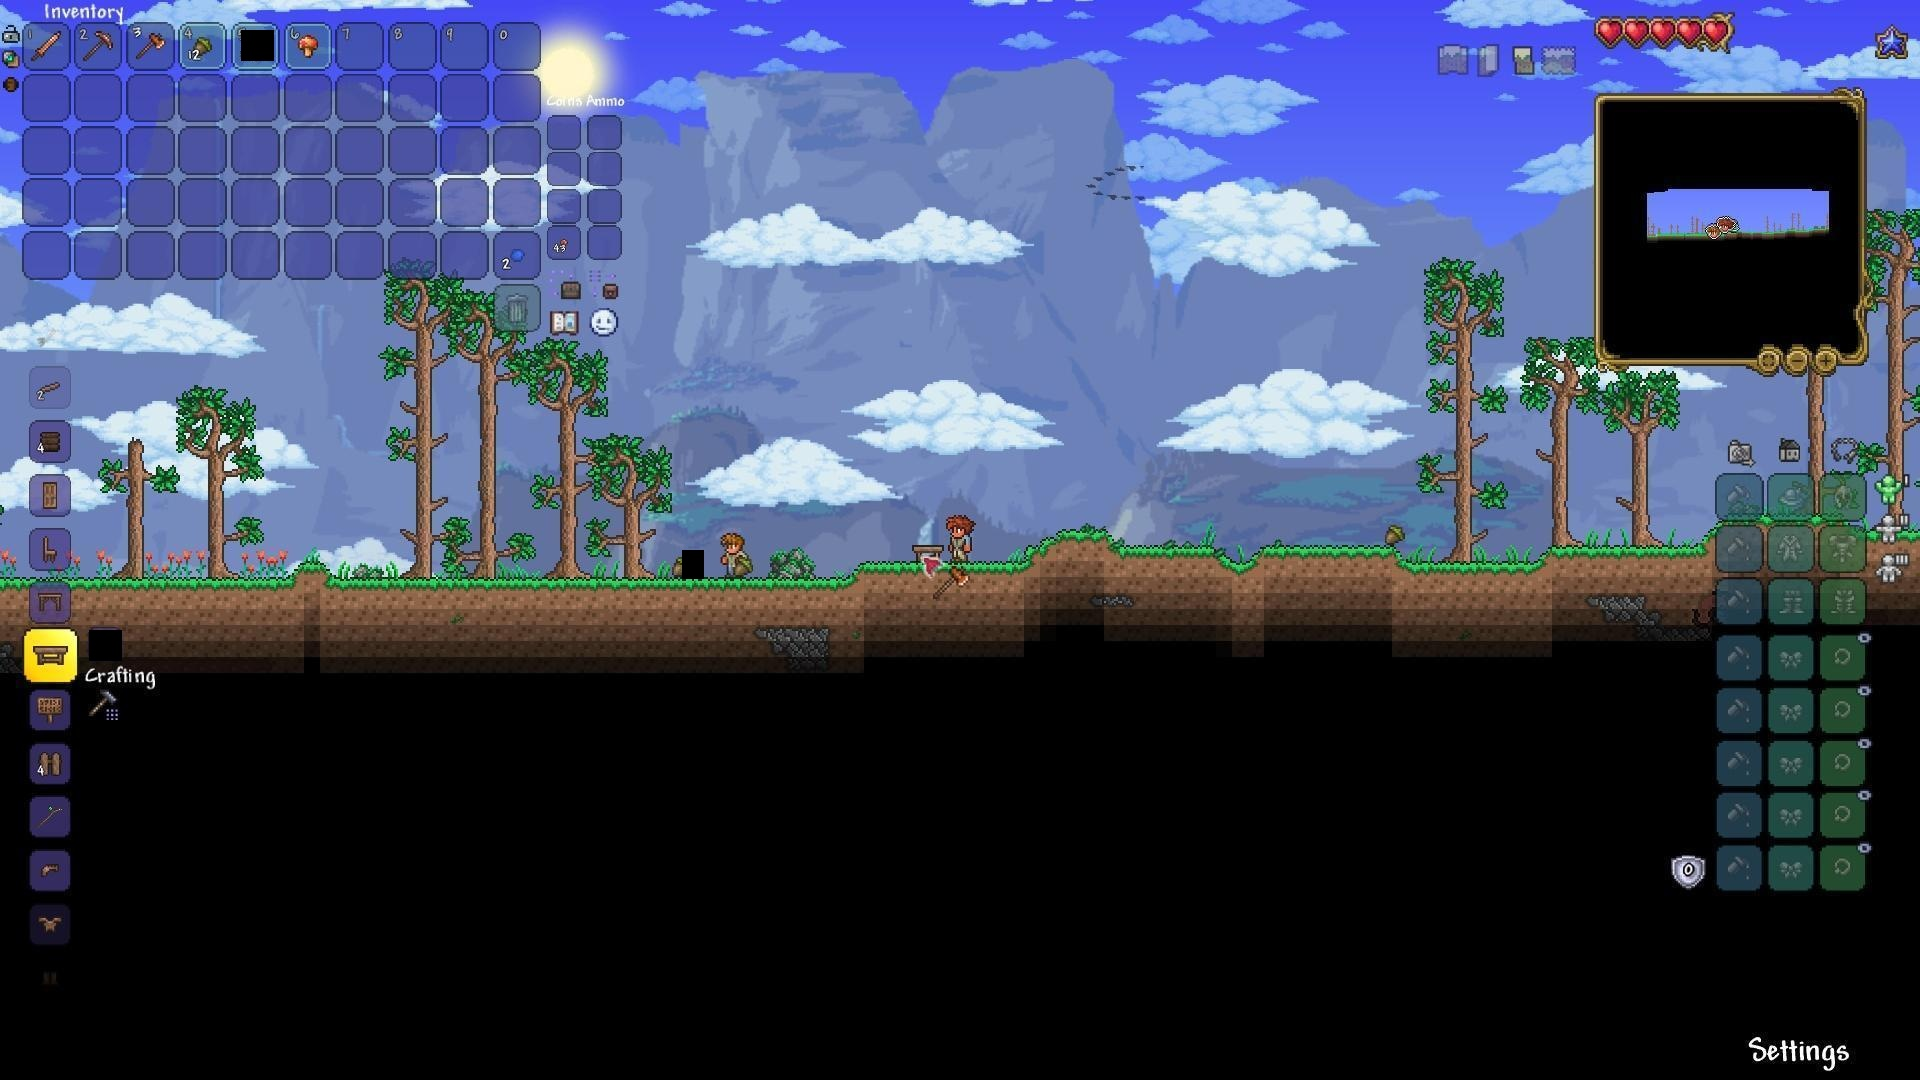breastplate: (36, 906, 69, 935)
helmet: (34, 858, 65, 886)
workbench: (909, 541, 945, 566), (34, 644, 65, 667)
